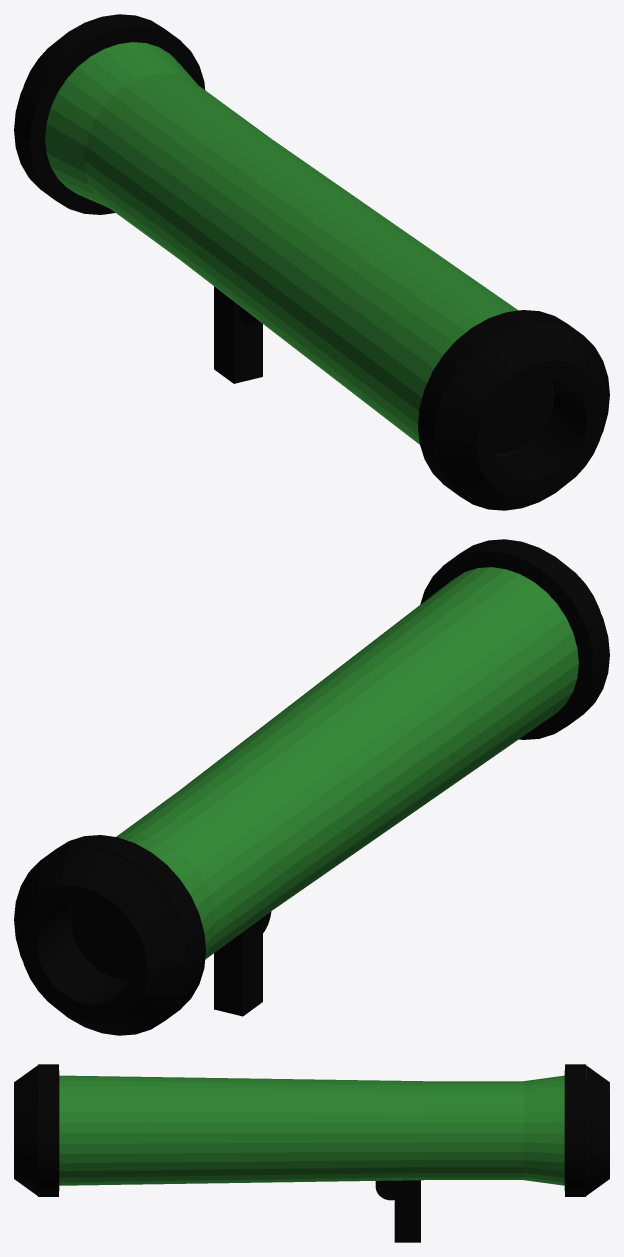
The model's file is bazuka.fbx.
3 views of the same model, one above another, from view 1: azimuth 30°, elevation 25°; view 2: azimuth 150°, elevation 25°; view 3: azimuth 270°, elevation 25° (orthographic). The views are drawn at different scales.
Visible parts, largest first — view 1: Cylinder; view 2: Cylinder; view 3: Cylinder.
Boxes of the visible parts, <box> form: Cylinder: <box>14,14,609,510</box>; Cylinder: <box>14,539,609,1035</box>; Cylinder: <box>14,1064,609,1242</box>.
Size of the model in its own units: 268 by 373 by 1203.
